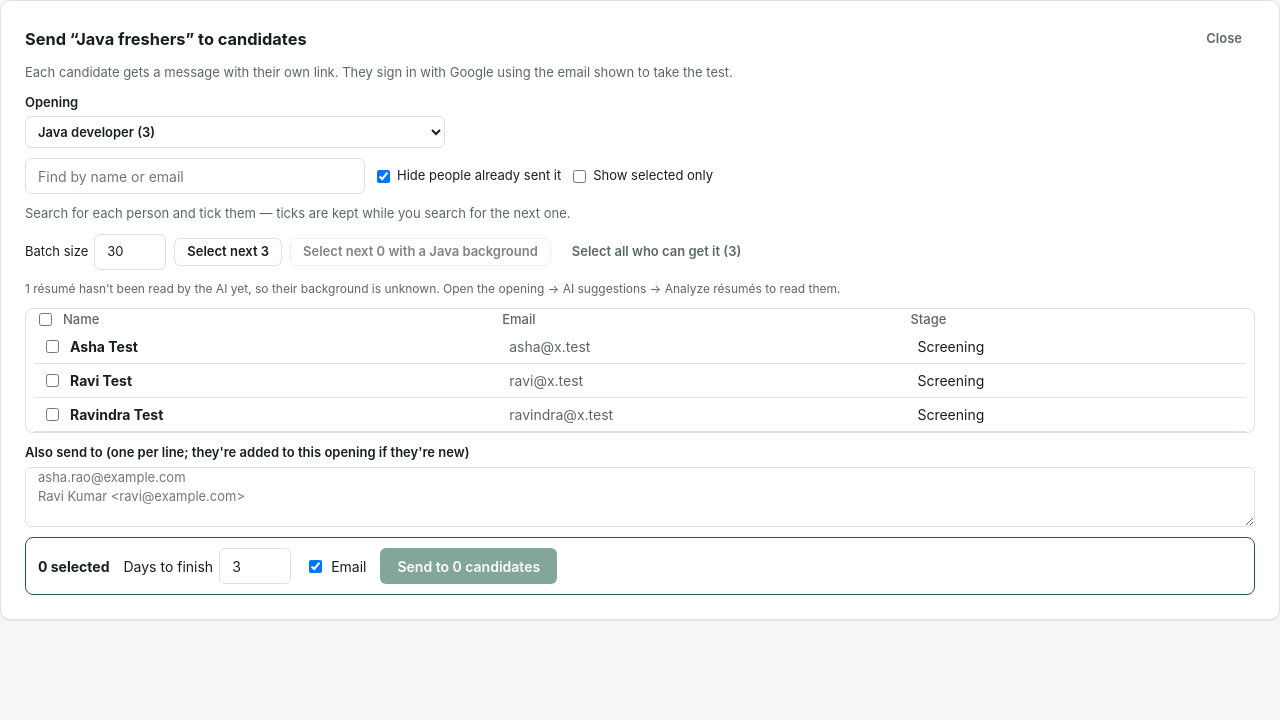
Test case: Send to candidates › finds people by name, selects everyone shown, and keeps Send in one row
Expected: the checkbox named "Send to Asha Test" is shown, [46, 340, 59, 353]
Type "ravi" into the search field named "Find candidates".
click(195, 176); type("ravi")  # box [25, 158, 365, 194]
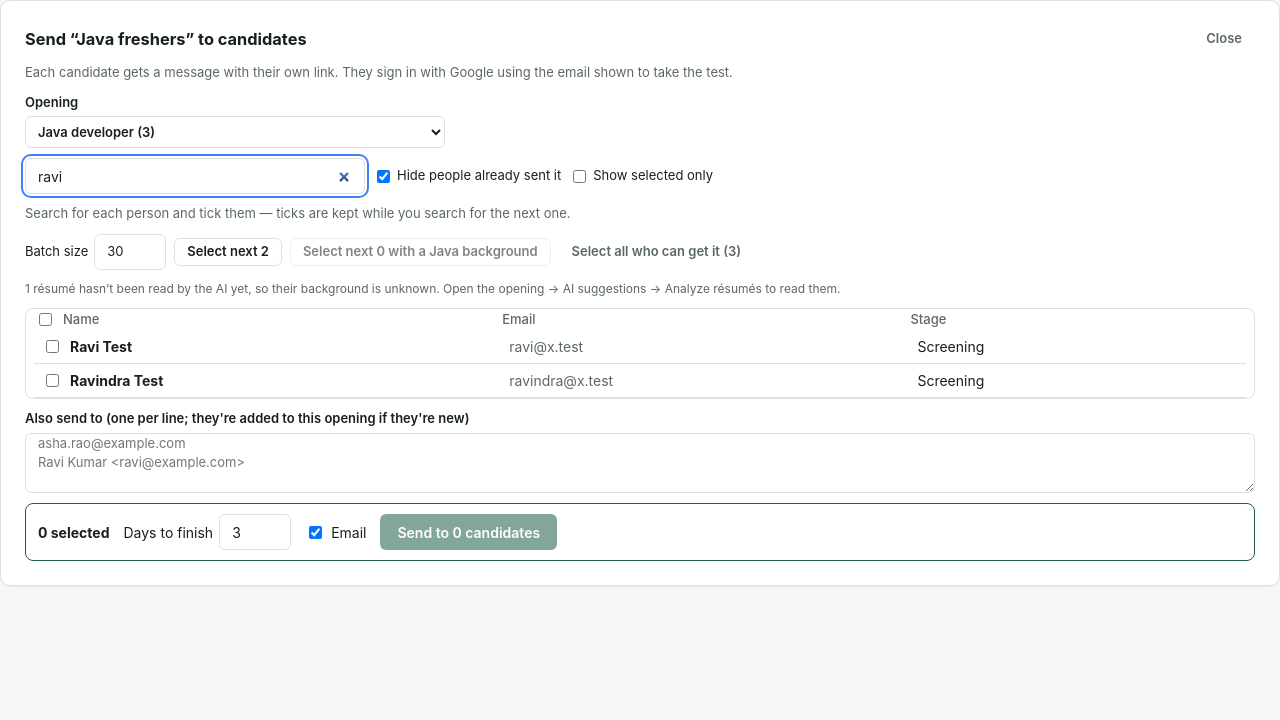
Expected: the text "Asha Test" is gone
Click the checkbox named "Select everyone shown".
click(46, 319)  # box [39, 313, 52, 326]
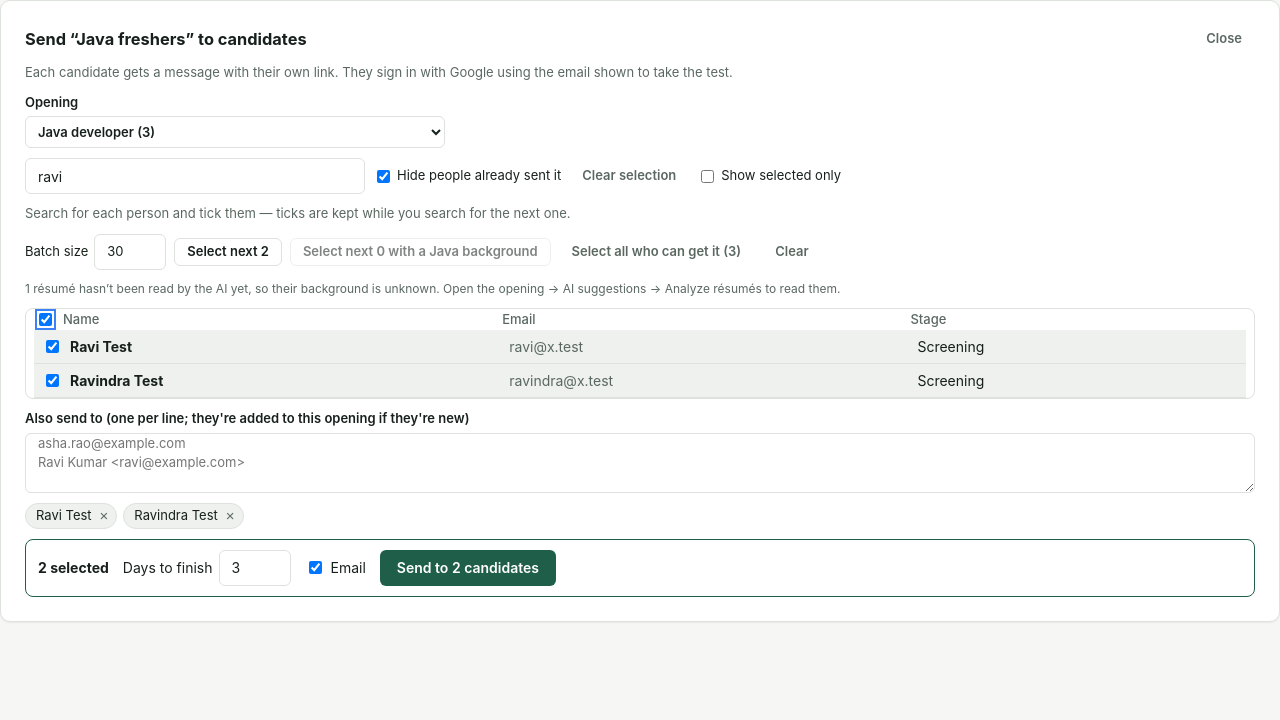
Expected: the text "2 selected" is shown, [38, 557, 109, 578]
Expected: the button "Send to 2 candidates" is enabled, [380, 550, 556, 586]
